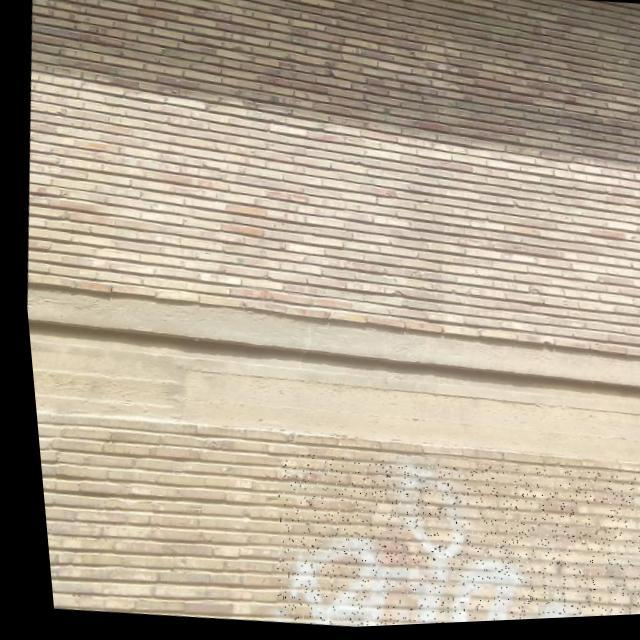-: (252, 442, 640, 632)
